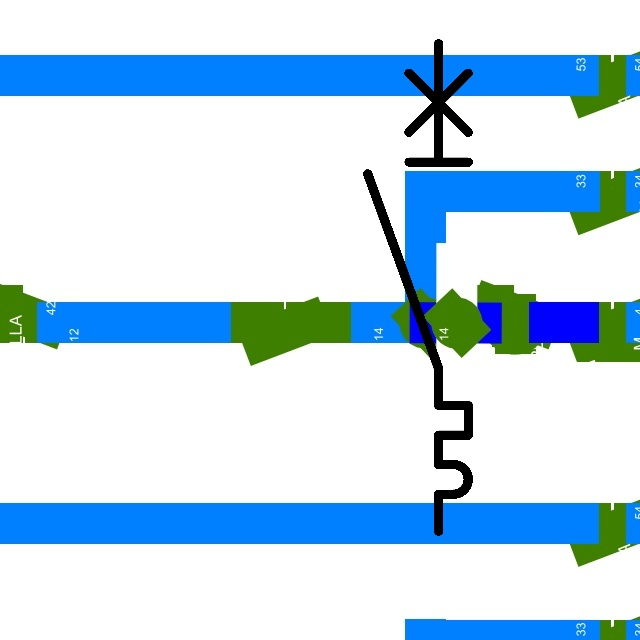interruptor_termomagnetico: (355, 31, 481, 544)
